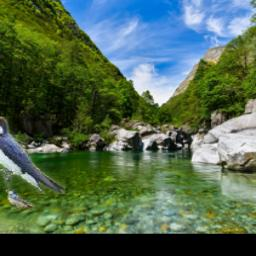Swallow: (0, 117, 66, 195), (7, 189, 35, 209)
